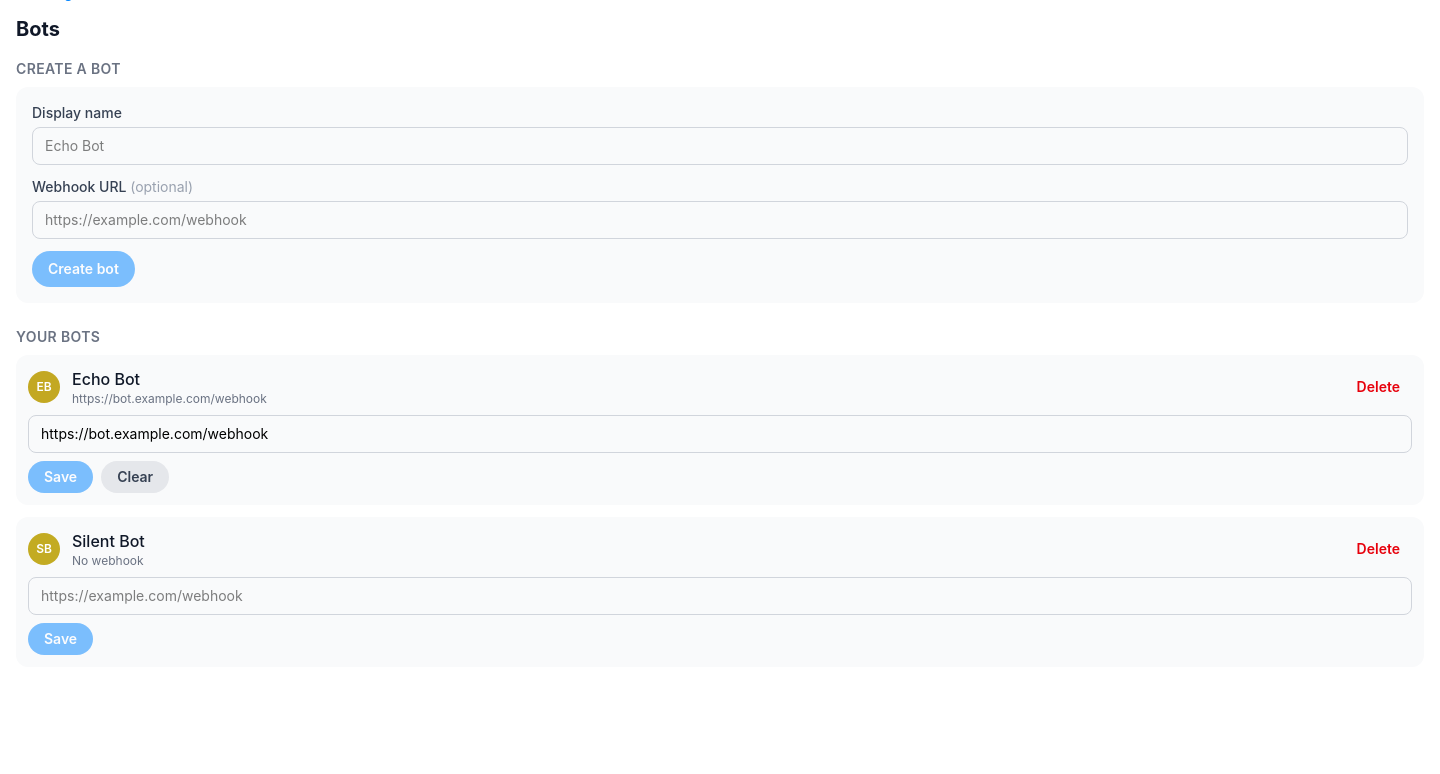
Test: BotsPage › creates a bot and reveals the apiToken exactly once
Expected: the text "Echo Bot" is shown, top-left (72, 369), bottom-right (140, 389)
Type "New Bot" into the field labelled "Display name" at x=720, y=146, box top-left (32, 127), bottom-right (1408, 165)
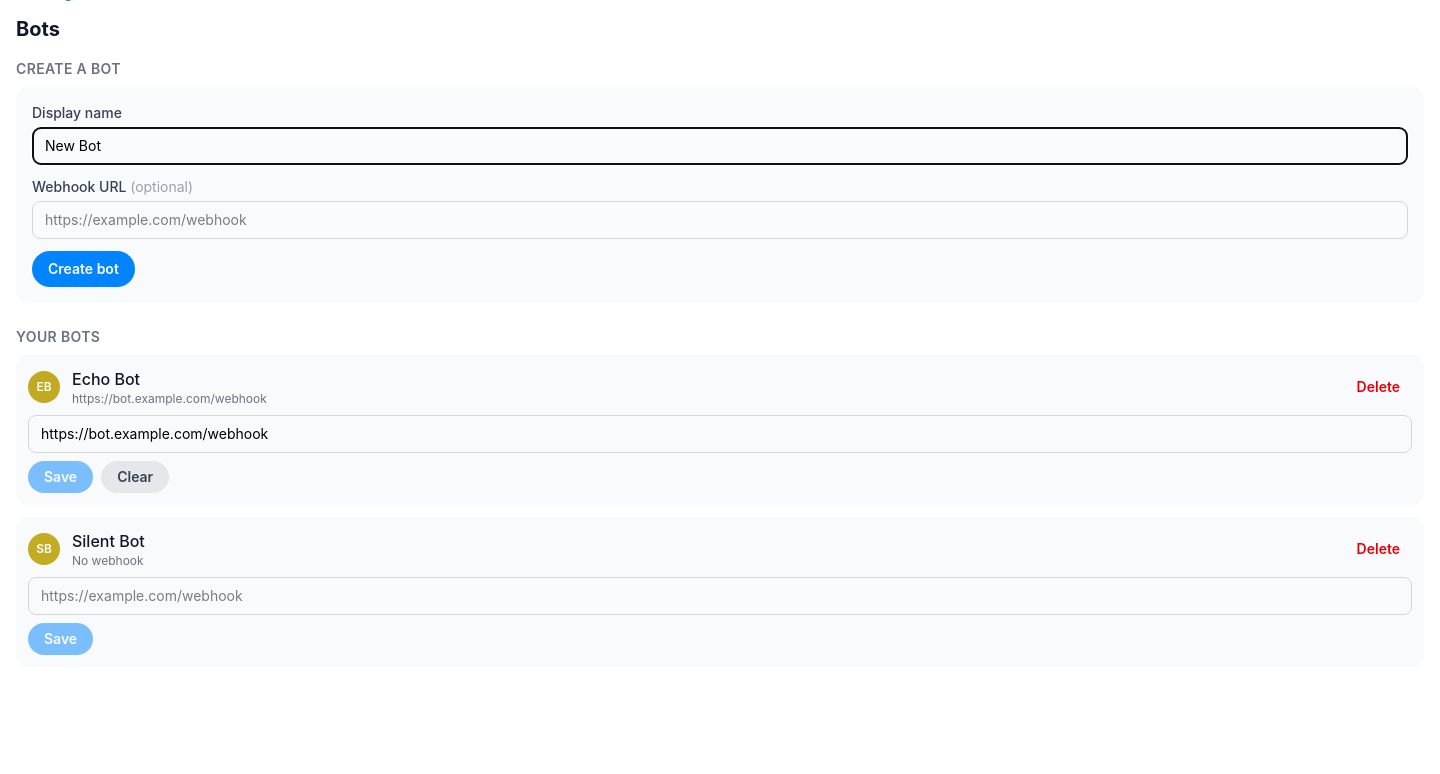
Click the button "Create bot" at x=83, y=269, box top-left (32, 251), bottom-right (135, 287)
(page scrolled)
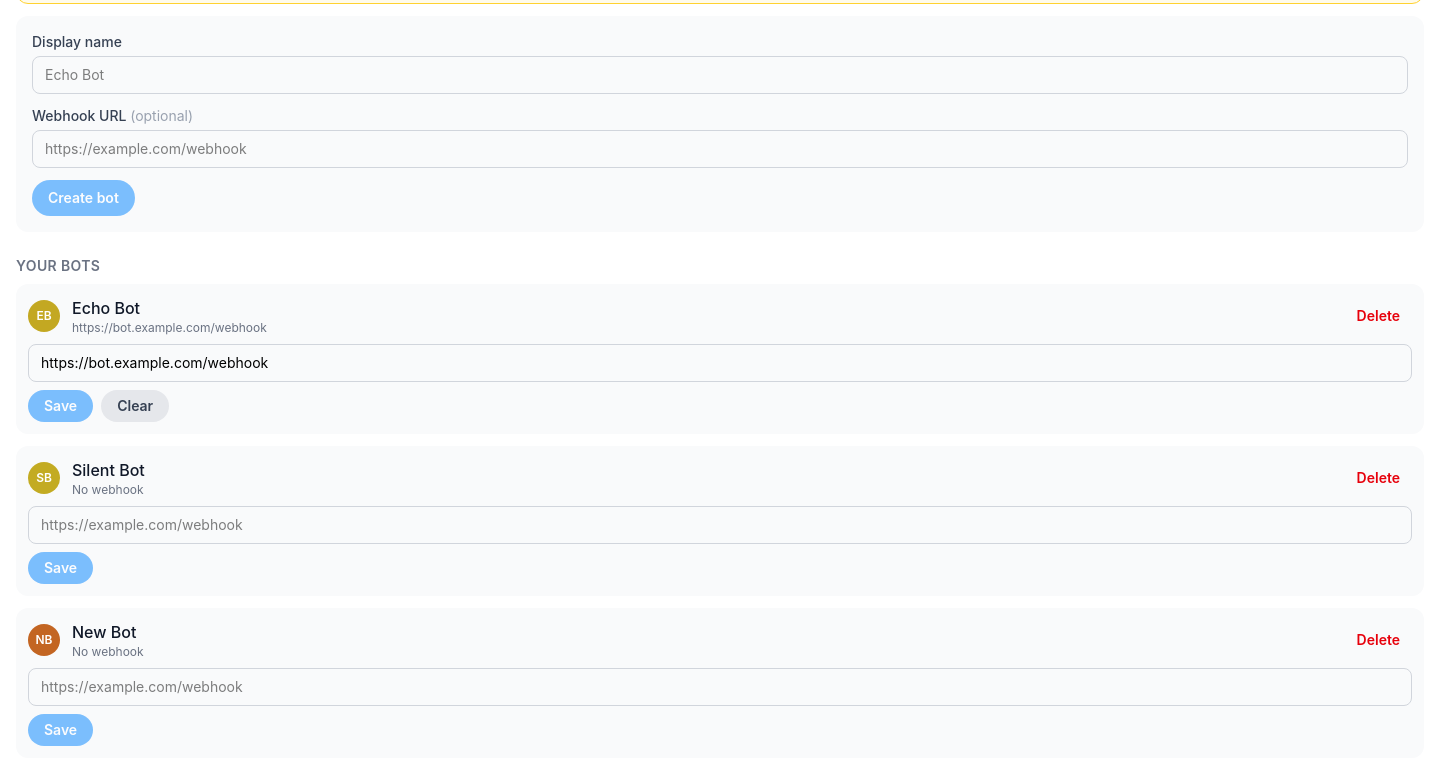
Expected: the text "New Bot" is shown, top-left (72, 620), bottom-right (144, 644)
